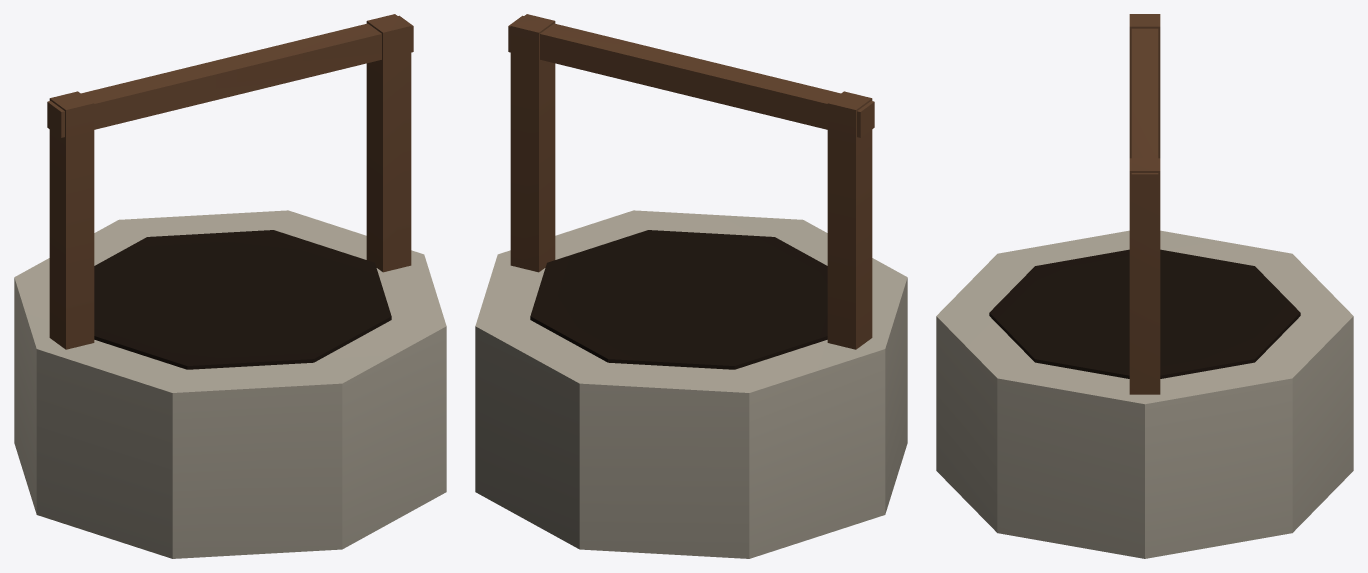
The model's file is republic_well_lod0.glb.
The picture shows the model from 3 angles, left to right: view 1: azimuth 30°, elevation 25°; view 2: azimuth 150°, elevation 25°; view 3: azimuth 270°, elevation 25°; orthographic projection. The views are drawn at different scales.
Parts seen in each view (by area): view 1: GEO-Arch_republic_well_LOD0; view 2: GEO-Arch_republic_well_LOD0; view 3: GEO-Arch_republic_well_LOD0.
Part boxes in pixels (x1,y1,x2,y2): GEO-Arch_republic_well_LOD0: (14, 14, 446, 558); GEO-Arch_republic_well_LOD0: (475, 14, 907, 558); GEO-Arch_republic_well_LOD0: (936, 14, 1353, 558).
Bounding box in the file's own units: 2.2 × 2.2 × 2.2.
